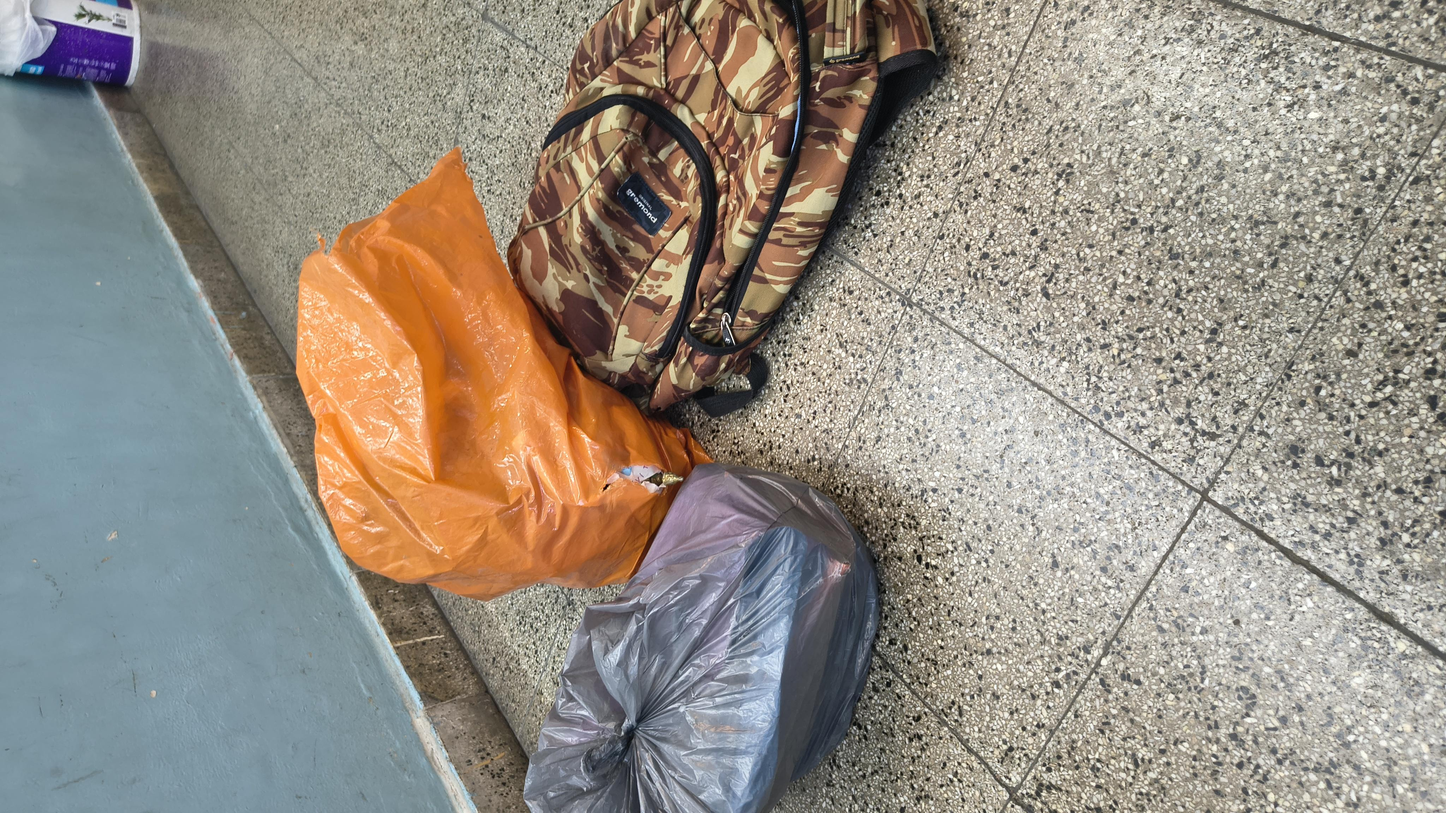Garbage: (389, 149, 1249, 441), (0, 270, 715, 496)
